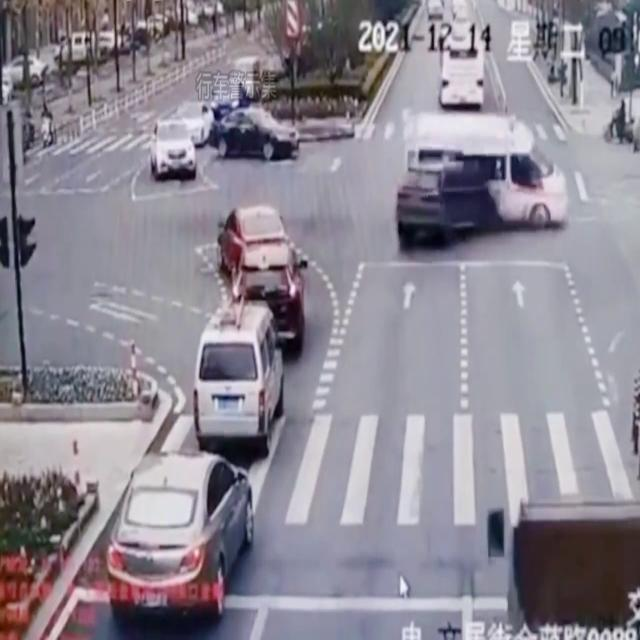multiple_accident: (383, 2, 612, 269)
